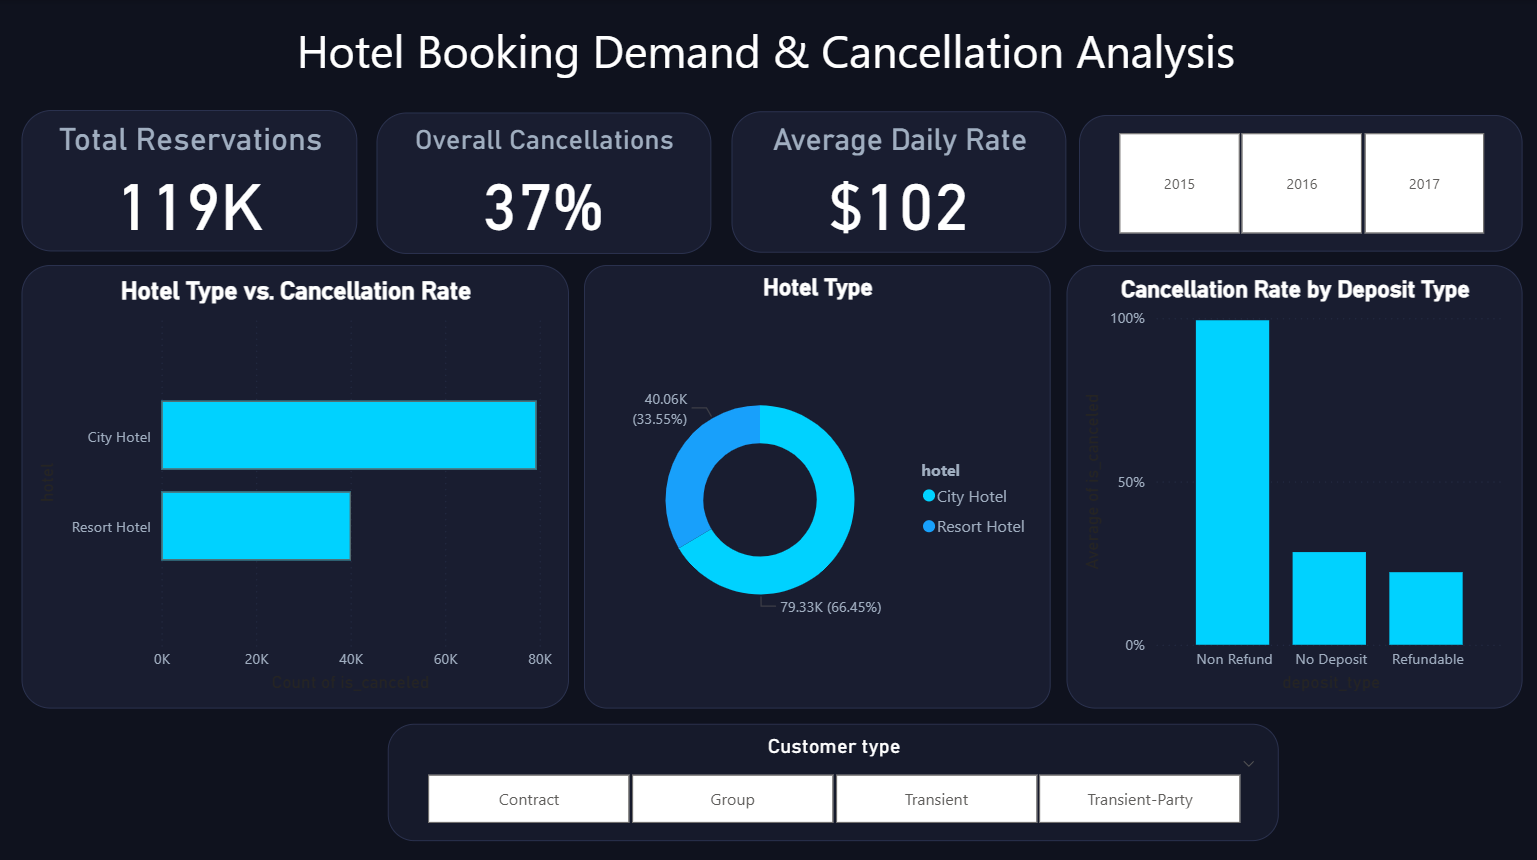

This screenshot's page, from the dashboard's own definition file:
{"tool":"powerbi","page":{"name":"Page 1","canvas":[1280,720],"ordinal":0},"visuals":[{"type":"card","title":"Total Reservations ","fields":{"Values":["CountNonNull(hotel_bookings.is_canceled)"]},"box":[18.7,91.5,279.6,117.4],"z":0},{"type":"card","title":"Overall  Cancellations","fields":{"Values":["Avg(hotel_bookings.is_canceled)"]},"box":[314,93.5,278.1,117.5],"z":1000},{"type":"card","title":"Average Daily Rate ","fields":{"Values":["Avg(hotel_bookings.adr)"]},"box":[609,92.5,278.5,117.4],"z":2000},{"type":"donutChart","title":"Hotel Type ","fields":{"Y":["CountNonNull(hotel_bookings.hotel)"],"Category":["hotel_bookings.hotel"]},"box":[486.4,220.3,387.6,368.9],"z":3000},{"type":"clusteredColumnChart","title":"Cancellation Rate by Deposit Type","fields":{"Category":["hotel_bookings.deposit_type"],"Y":["Avg(hotel_bookings.is_canceled)"]},"box":[887.5,220.3,379.3,368.9],"z":4000},{"type":"clusteredBarChart","title":"Hotel Type vs. Cancellation Rate","fields":{"Y":["CountNonNull(hotel_bookings.is_canceled)"],"Category":["hotel_bookings.hotel"]},"box":[18.7,220.3,455.2,368.9],"z":5000},{"type":"slicer","fields":{"Values":["hotel_bookings.arrival_date_year"]},"box":[897.9,95.6,368.9,113.3],"z":6000},{"type":"slicer","title":"Customer type","fields":{"Values":["hotel_bookings.customer_type"]},"box":[323.2,601.7,741,97.7],"z":7000},{"type":"textbox","box":[99.8,11.4,1075.6,70.7],"z":8000}]}

Visuals, with their boxes in screenshot pixels (x1, y1, x2, y2), scaled from the page's 1280x720 canvas onto the 1537x860 screenshot:
"Total Reservations " card: box(22, 109, 358, 250)
"Overall  Cancellations" card: box(377, 112, 711, 252)
"Average Daily Rate " card: box(731, 110, 1066, 251)
"Hotel Type " donutChart: box(584, 263, 1049, 704)
"Cancellation Rate by Deposit Type" clusteredColumnChart: box(1066, 263, 1521, 704)
"Hotel Type vs. Cancellation Rate" clusteredBarChart: box(22, 263, 569, 704)
slicer - hotel_bookings.arrival_date_year: box(1078, 114, 1521, 250)
"Customer type" slicer: box(388, 719, 1278, 835)
textbox: box(120, 14, 1411, 98)
